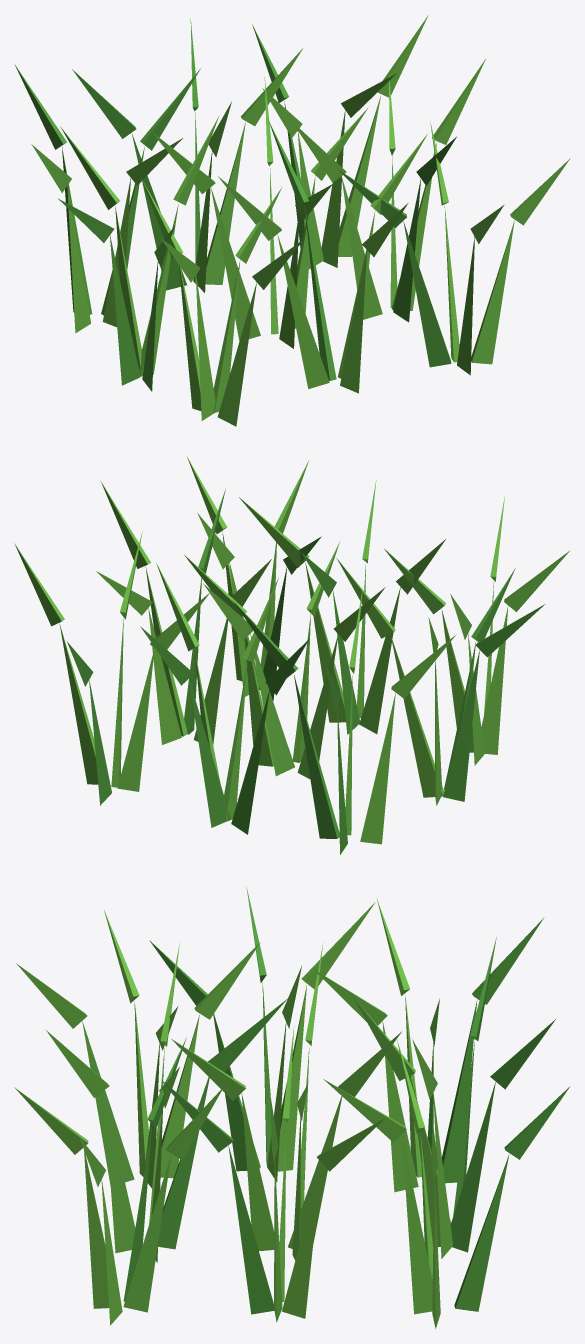
Rendered from rice-3.glb.
3 renders of one model, top to bottom at view 1: azimuth 30°, elevation 25°; view 2: azimuth 150°, elevation 25°; view 3: azimuth 270°, elevation 25°, orthographic. The views are drawn at different scales.
Parts seen in each view (by area): view 1: rice-3; view 2: rice-3; view 3: rice-3.
Boxes of the visible parts, left/top/right/bottom form: rice-3: left=15, top=15, right=570, bottom=426; rice-3: left=14, top=457, right=569, bottom=854; rice-3: left=14, top=886, right=570, bottom=1328.
Bounding box in the file's own units: 0.8542 × 0.4282 × 0.8109.
Materials: 1 (1 with a texture image).
